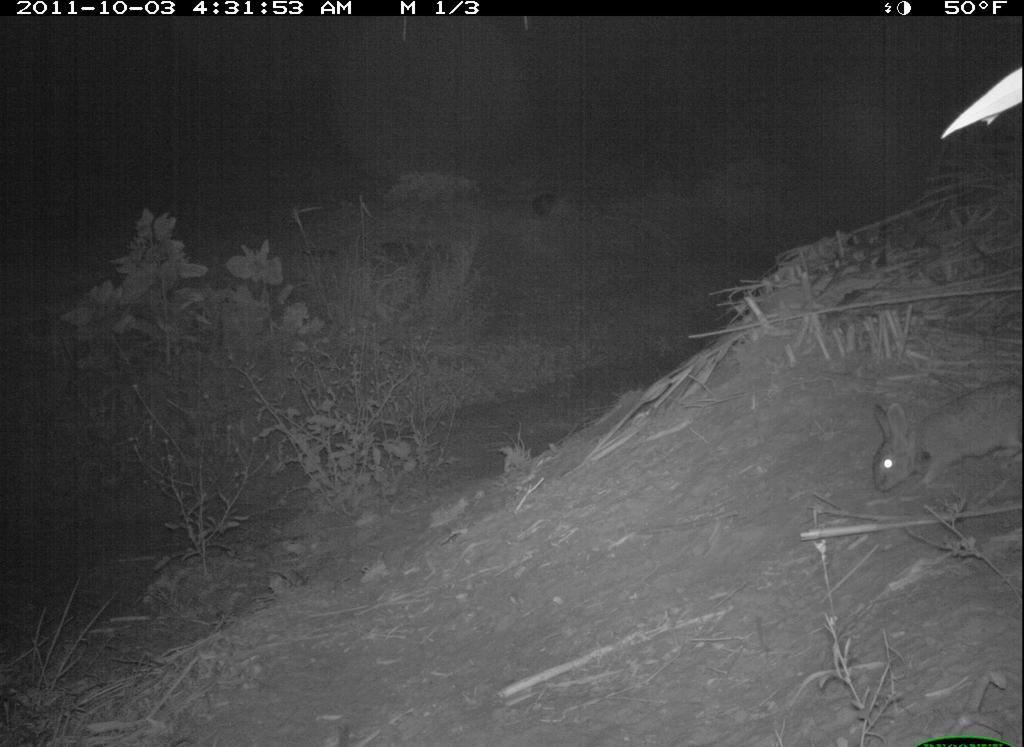rabbit: (868, 376, 1024, 498)
